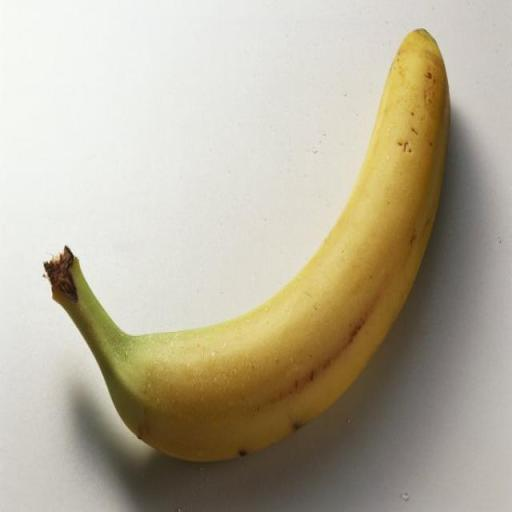fruit: (45, 30, 449, 460)
